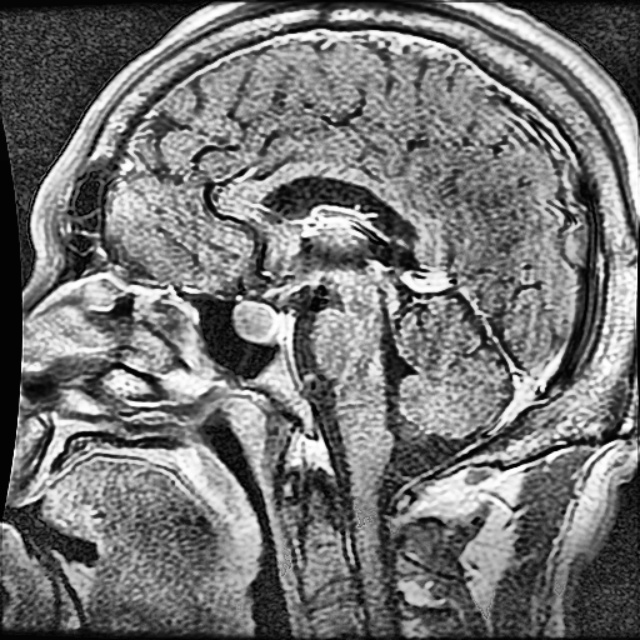Pituitary: (237, 303, 275, 337)
